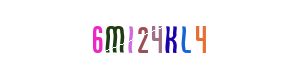2: (104, 0, 184, 80)
4: (110, 0, 190, 80), (161, 0, 241, 80)
6: (57, 0, 137, 80)
I: (99, 0, 179, 80)
K: (131, 0, 211, 80)
L: (141, 0, 221, 80)
M: (74, 0, 154, 80)
